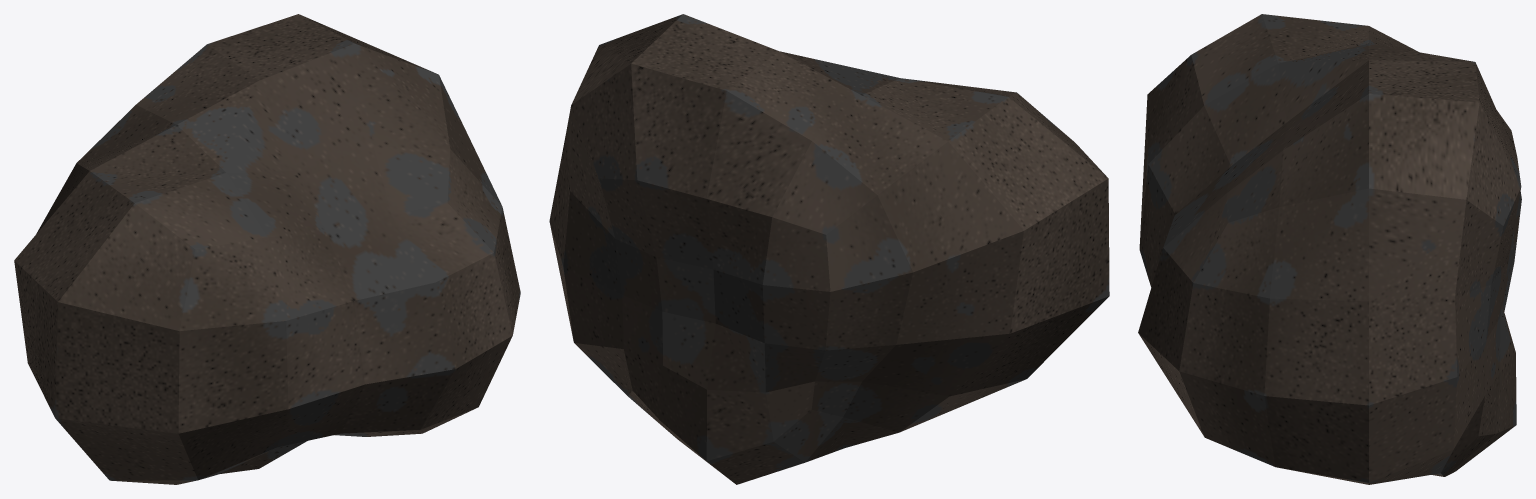
Rendered from Asteroid_1.fbx.
3 renders of one model, left to right at view 1: azimuth 30°, elevation 25°; view 2: azimuth 150°, elevation 25°; view 3: azimuth 270°, elevation 25°, orthographic. The views are drawn at different scales.
Parts seen in each view (by area): view 1: Asteroid; view 2: Asteroid; view 3: Asteroid.
Boxes of the visible parts, left/top/right/bottom form: Asteroid: left=14, top=14, right=520, bottom=484; Asteroid: left=549, top=14, right=1109, bottom=484; Asteroid: left=1138, top=14, right=1521, bottom=484.
Bounding box in the file's own units: 131 × 199 × 160.
